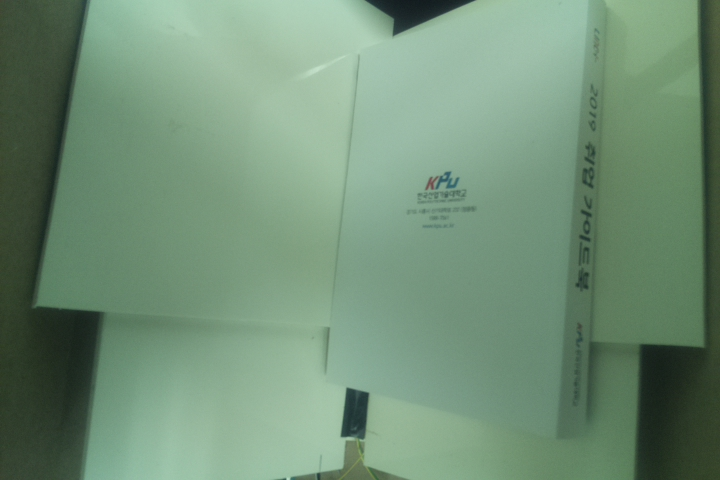book: (320, 1, 610, 442)
